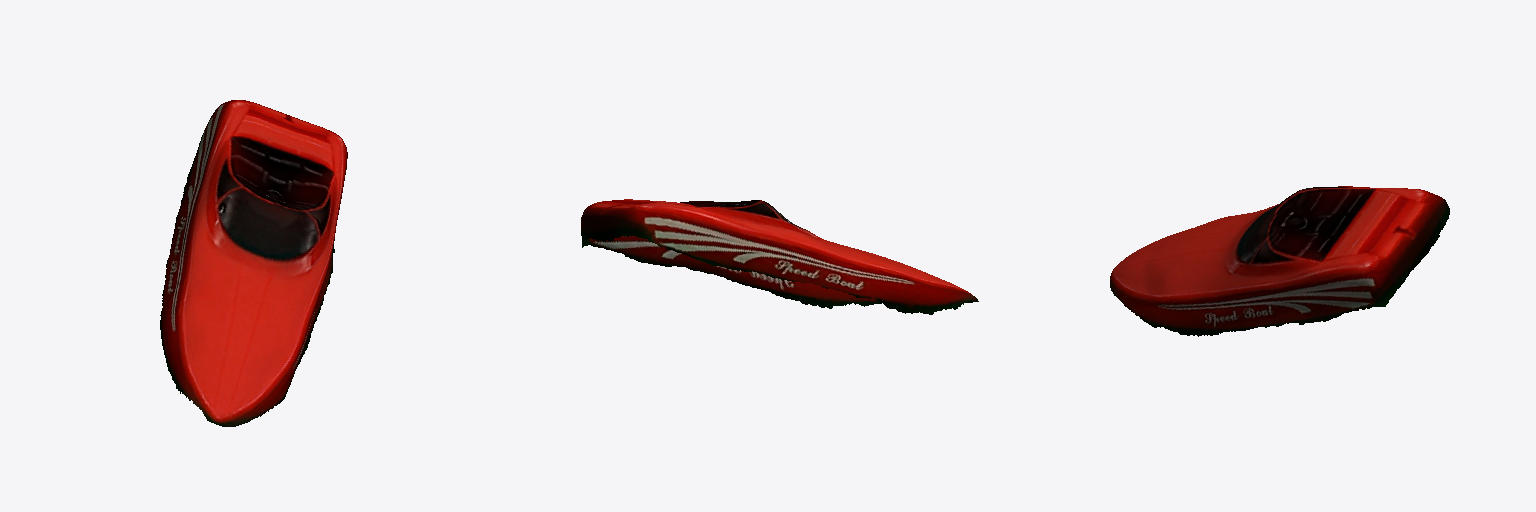
3 renders of one model, left to right at view 1: azimuth 30°, elevation 25°; view 2: azimuth 150°, elevation 25°; view 3: azimuth 270°, elevation 25°, orthographic.
Size of the model in its own units: 0.9909 by 0.615 by 1.07.
1 materials, 1 textured.